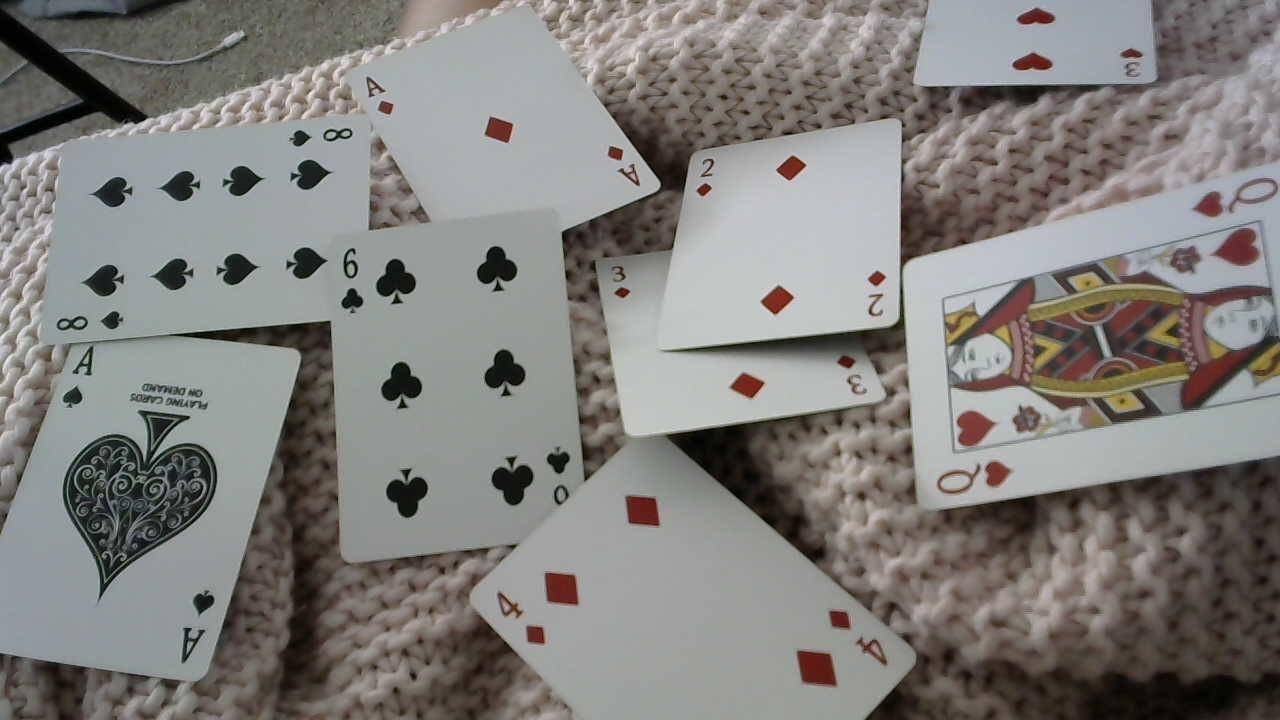2D: (858, 264, 893, 322), (690, 149, 720, 201)
3D: (833, 350, 869, 399), (605, 259, 634, 301)
3H: (1110, 45, 1148, 82)
4D: (822, 600, 894, 672), (493, 587, 550, 652)
6C: (333, 240, 369, 318)
8S: (52, 301, 126, 338), (282, 117, 358, 150)
AD: (601, 140, 648, 190), (360, 73, 396, 122)
AS: (174, 583, 218, 669), (60, 341, 100, 415)
QH: (1187, 172, 1280, 225), (925, 456, 1018, 498)
